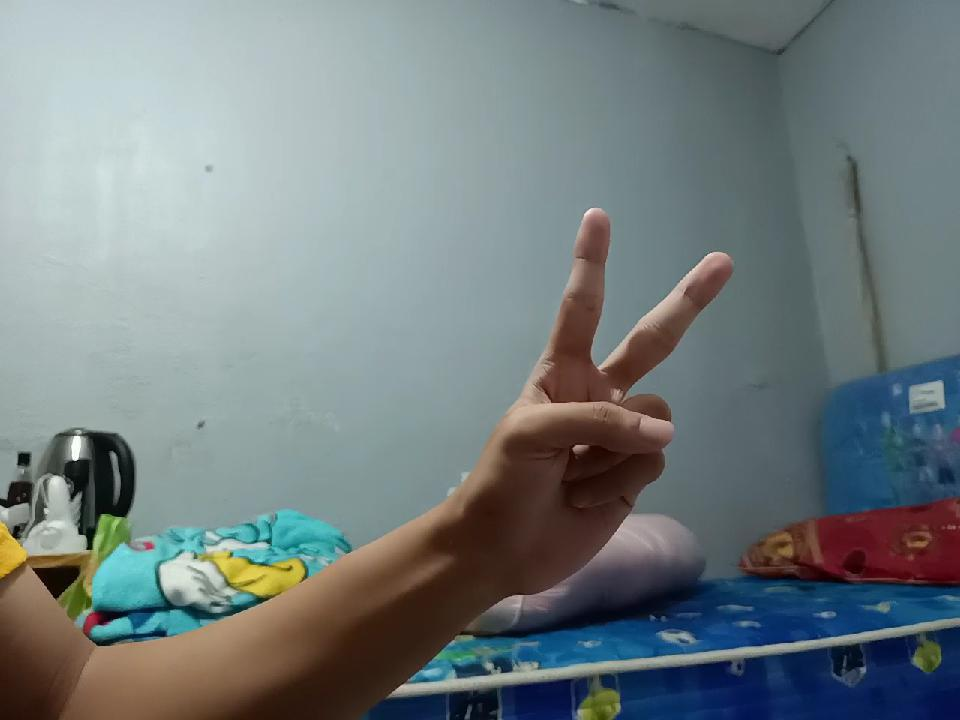scissors: (451, 200, 720, 588)
